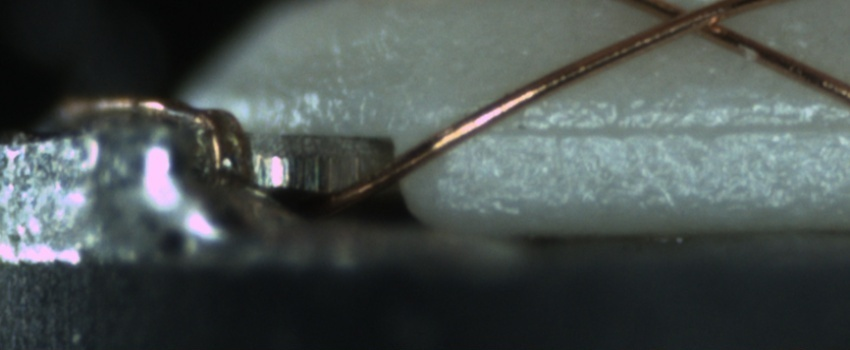CL: (641, 1, 748, 41)
DL: (474, 100, 849, 161)
TE: (53, 87, 256, 183)
